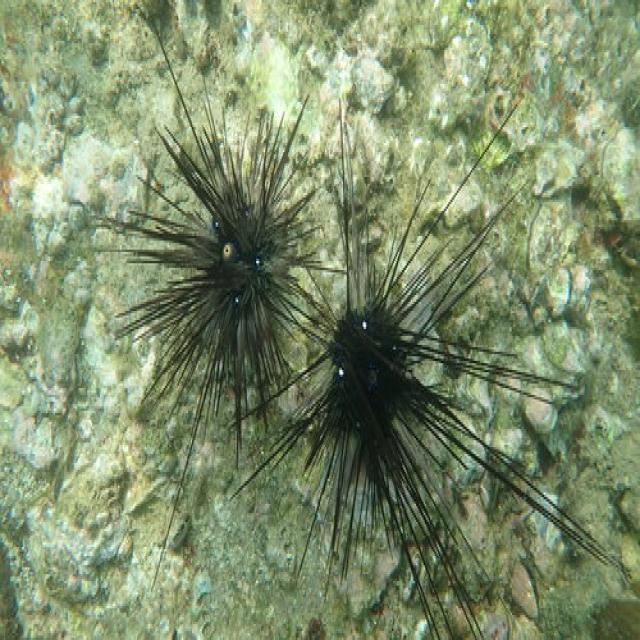Urchin: (230, 100, 617, 622), (93, 25, 344, 588)
